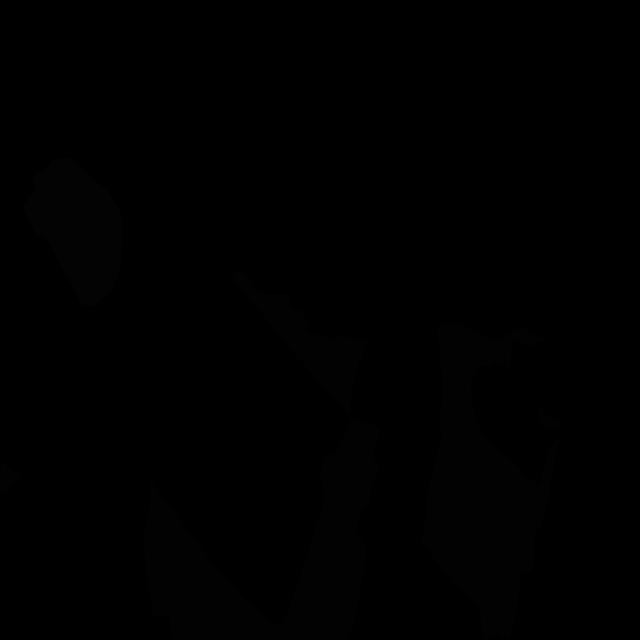cardboard: (144, 419, 380, 640), (433, 395, 558, 640), (230, 271, 368, 418), (437, 321, 545, 434), (421, 468, 464, 588), (0, 461, 21, 494), (538, 405, 562, 432)
metal: (22, 158, 122, 307)
